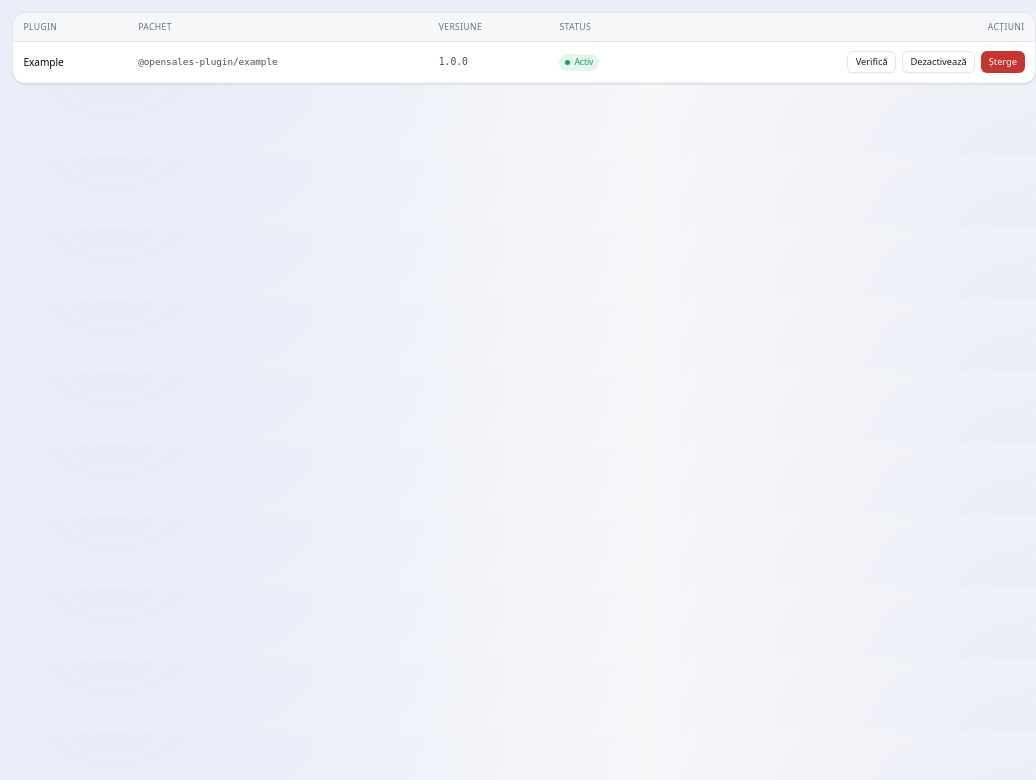
Scenario: PluginsTable › shows error alert when an action fails
Click the button "Verifică" at (872,62), box [847,51,896,73]
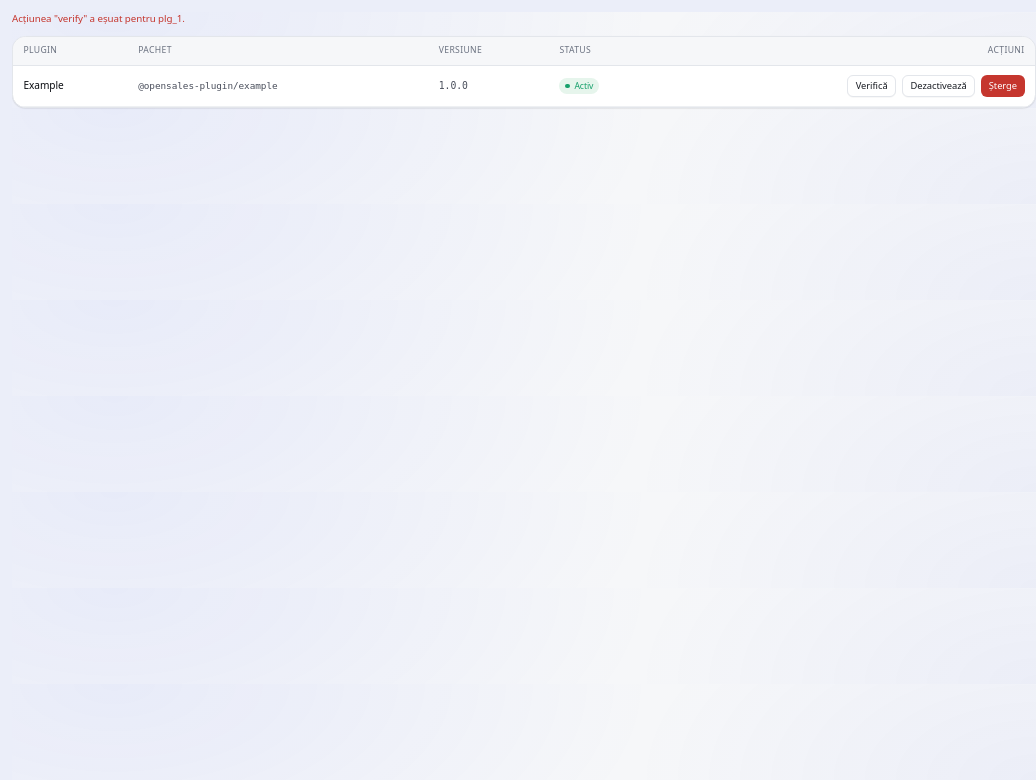
Expected: the message shows "eșuat", [12,12,185,25]
